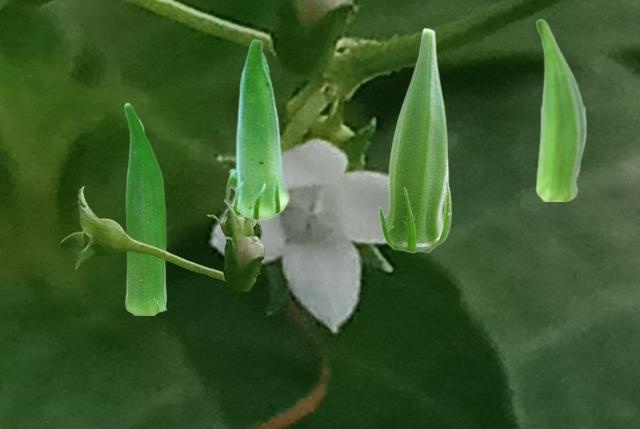okra: (378, 27, 451, 252), (225, 38, 289, 220), (535, 18, 586, 200), (124, 102, 165, 314)
